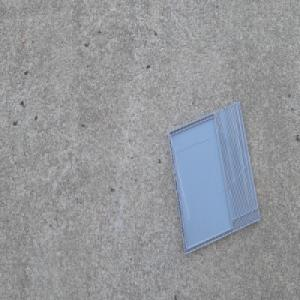PlasticPart: (166, 99, 261, 255)
